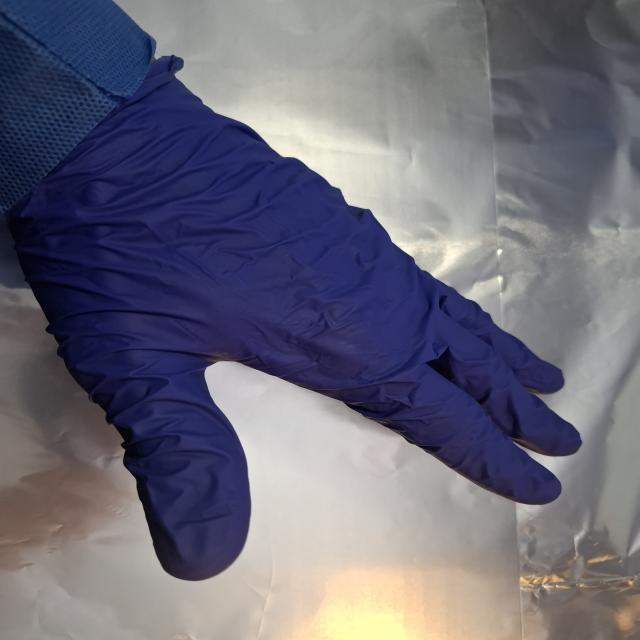glove_on: (10, 56, 585, 585)
